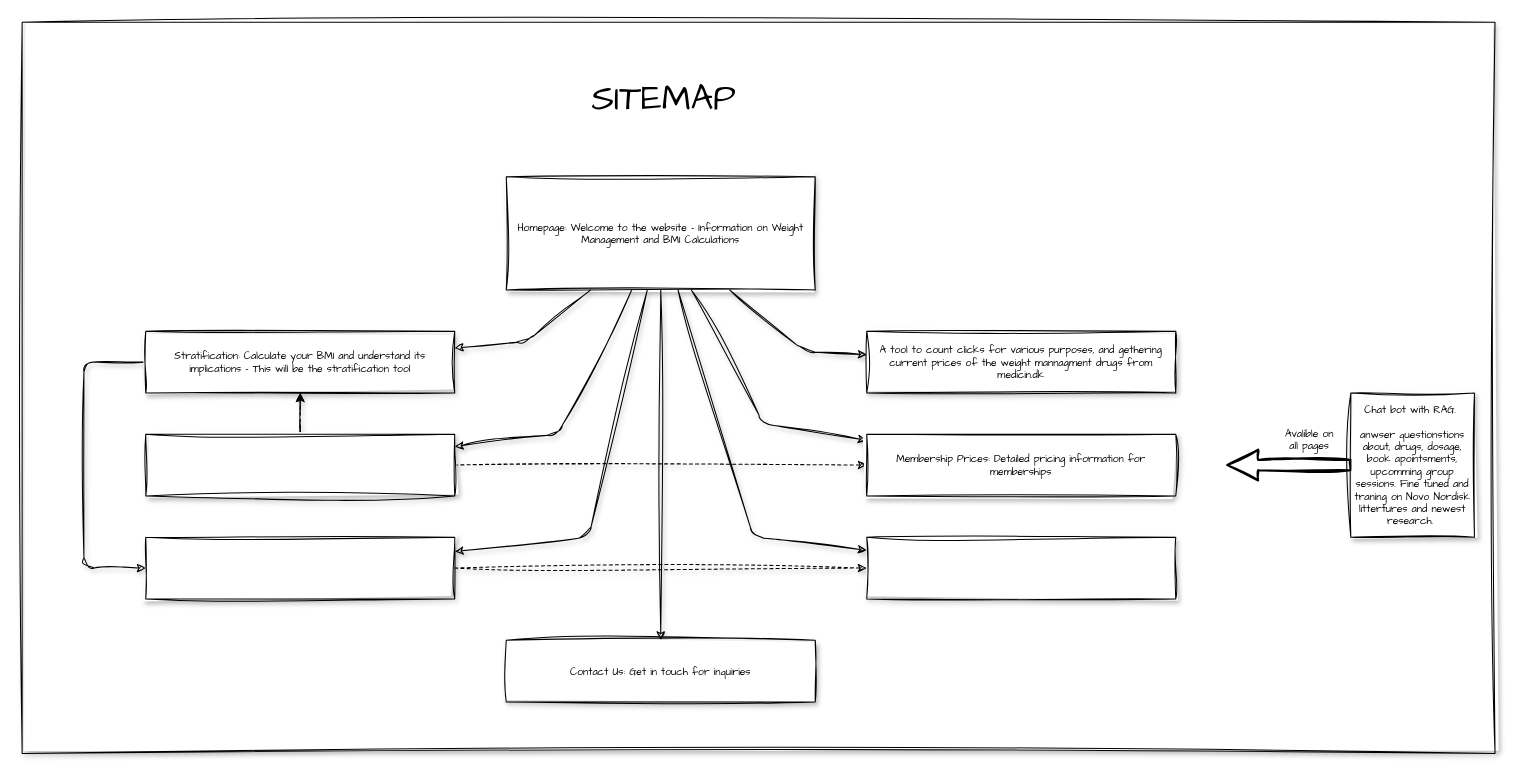
Image size: 1519x779. Some labels were removed from this diagram. The shapes that lost their labels are listed below. From the top down, each one's centre as x and y in pixels, then its label:
At (301,466): "Wegovy Experiences: Stories from users of Wegovy weight management treatment".
At (301,569): "Treatment FAQ: Common questions and answers about weight management treatments".
At (1022,569): "Newsroom: Latest updates and news from Fit for Livet".
